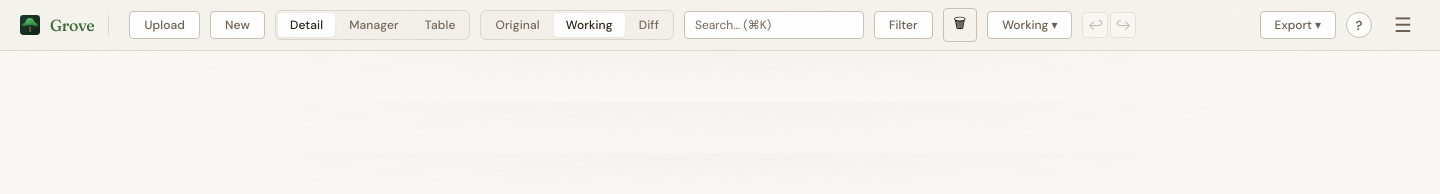
Test: Toolbar — branch coverage › export dropdown toggle › closes export dropdown when export button is clicked twice
Click the button with aria-label "Export options": (1298, 25) [1260, 11, 1336, 39]
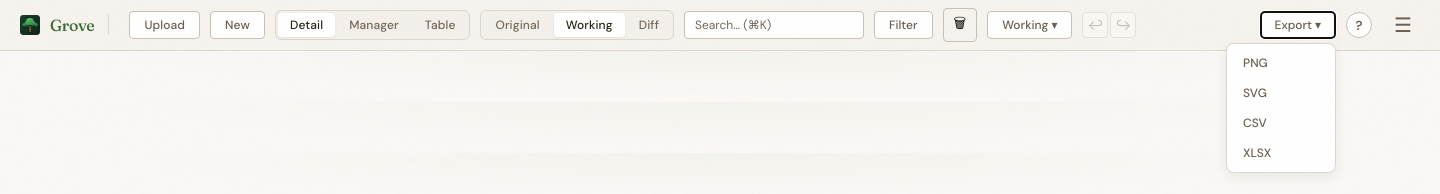
Expected: the button "PNG" is shown, [1227, 48, 1335, 78]
Click the button with aria-label "Export options": (1298, 25) [1260, 11, 1336, 39]
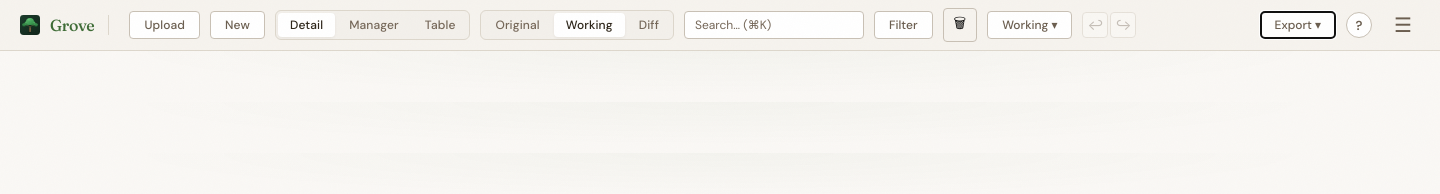
Expected: the button "PNG" is gone
